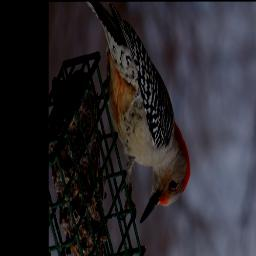Woodpecker: (92, 2, 191, 222)
